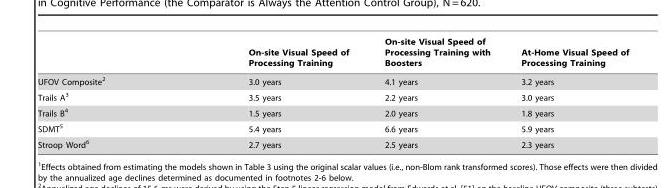table: (37, 37, 628, 149)
table column: (176, 37, 366, 149), (37, 37, 176, 149), (366, 37, 505, 149), (505, 37, 628, 149)
table column header: (37, 37, 628, 71)
table row: (37, 37, 628, 71), (37, 71, 628, 88), (37, 88, 628, 104), (37, 104, 628, 120), (37, 120, 628, 136), (37, 136, 628, 149)
